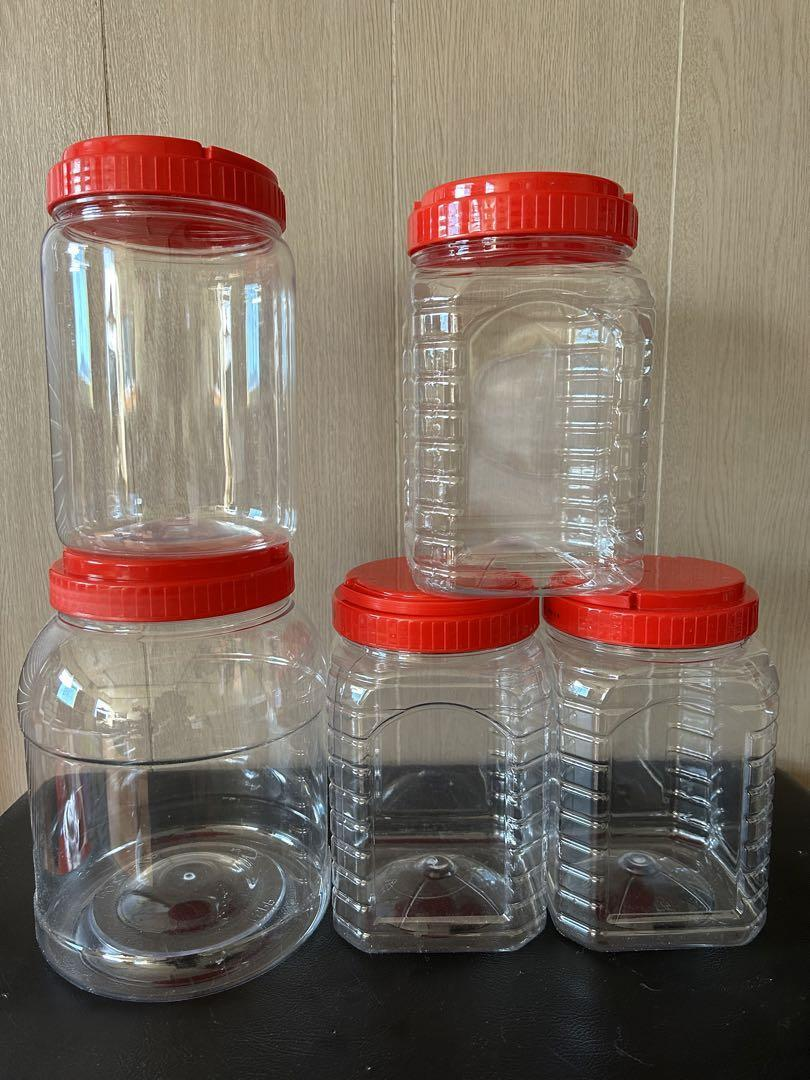plastic: (19, 550, 329, 1000), (41, 135, 295, 557), (401, 172, 654, 593), (543, 556, 777, 951), (329, 558, 554, 952)
